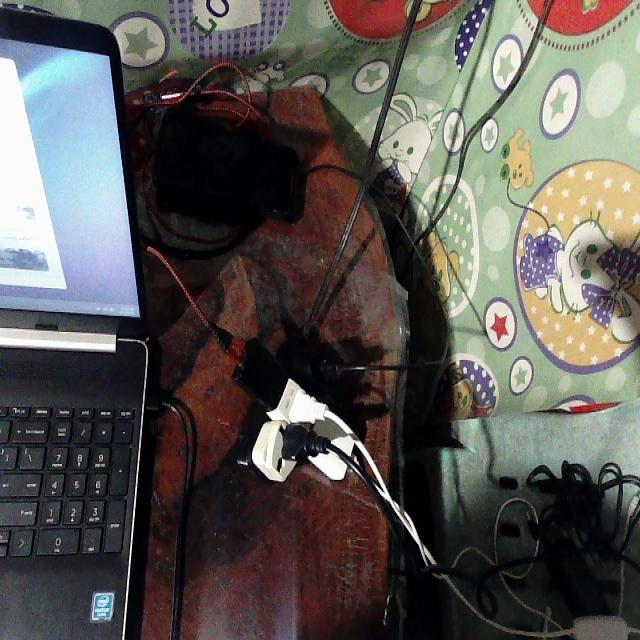-: (227, 337, 359, 484)
